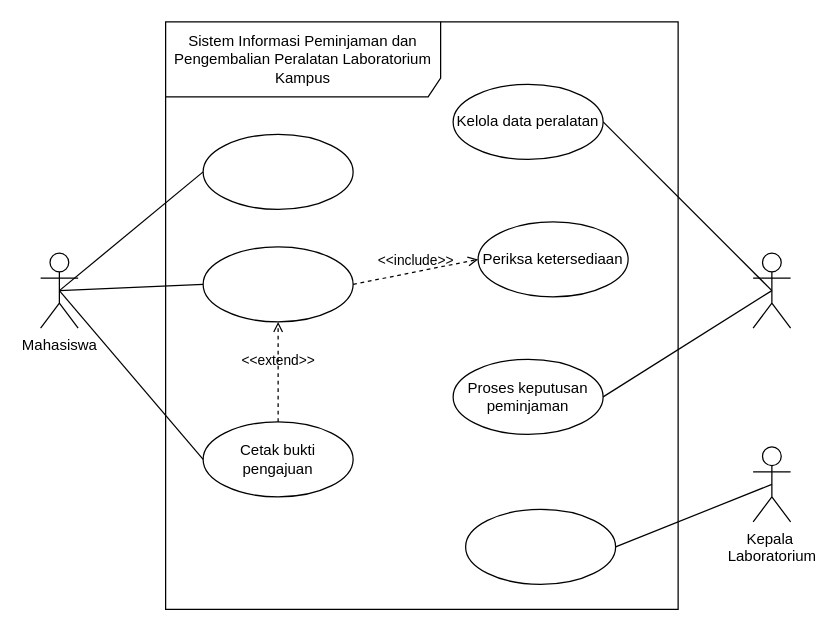
Some shapes in this 838 by 631 pixel diagram are drawn without their labels. Here are the shapes that lost their labels. From the top down, the centre of each, then its label:
At point 277,171: "LIhat Ketersediaan peralatan".
At point 277,284: "Ajukan Peminjaman".
At point 771,290: "Petugas Laboratorium".
At point 540,546: "Lihat laporan peminjaman".
